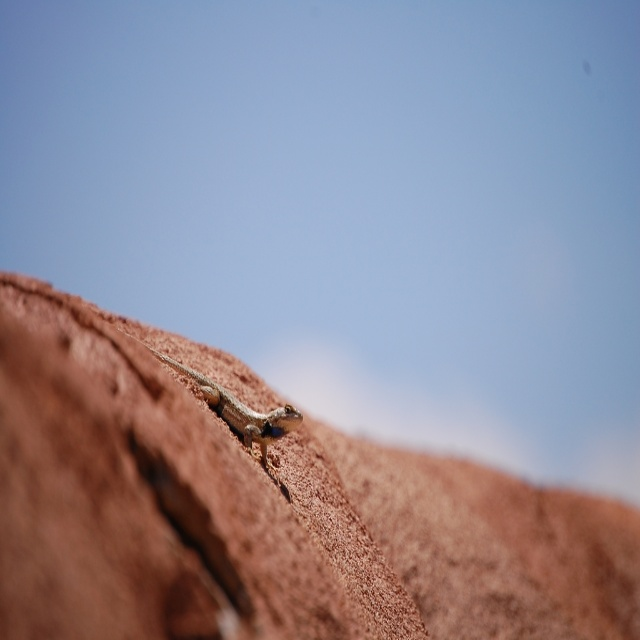Lizard: (125, 334, 302, 467)
